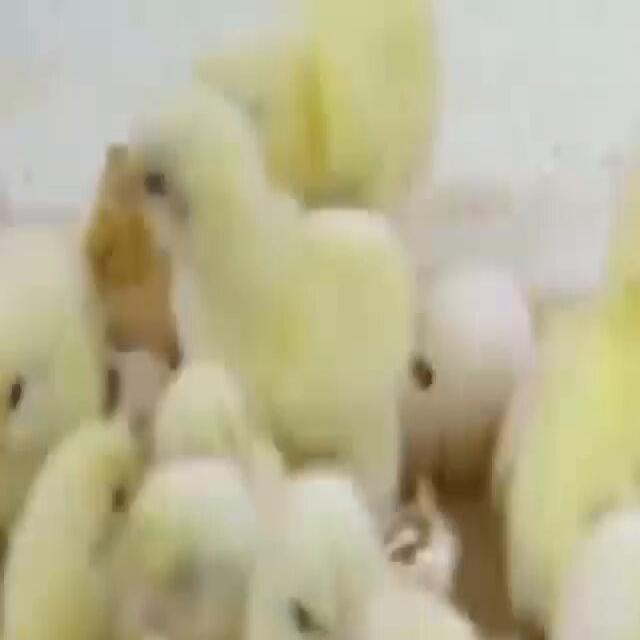chicks: (12, 437, 144, 599), (128, 70, 243, 241), (262, 38, 372, 188), (268, 524, 391, 640), (0, 322, 75, 450), (634, 108, 640, 338)
